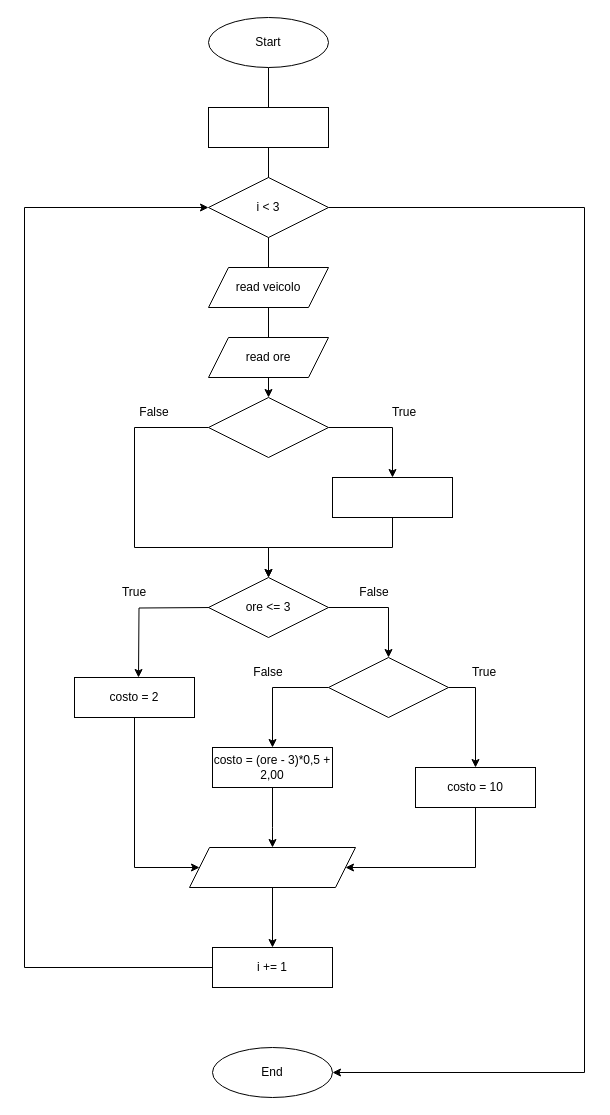
Image size: 610x1115. Some labels were removed from this diagram. The shapes that lost their labels are listed below. From the top down, each one's centre as x and y in pixels, then its label:
At point (268, 127): "i = 0".
At point (268, 427): "ore % 1 != 0".
At point (392, 497): "ore = ore//1 +1".
At point (388, 687): "ore == 24".
At point (272, 867): "write veicolo, ore, costo".
